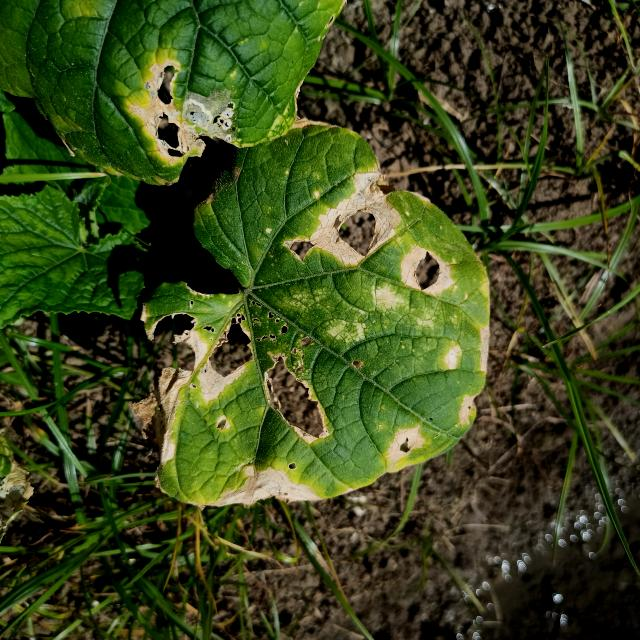disease_cucumber: (148, 167, 491, 510), (128, 58, 210, 173)
